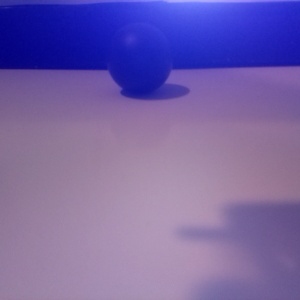dead_ball: (106, 24, 172, 93)
